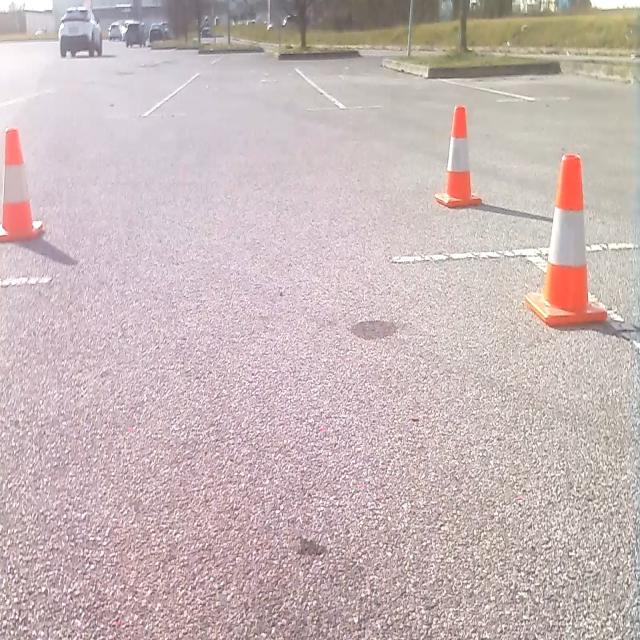orange_cone: (524, 150, 608, 328), (0, 123, 45, 243), (434, 103, 483, 209)
